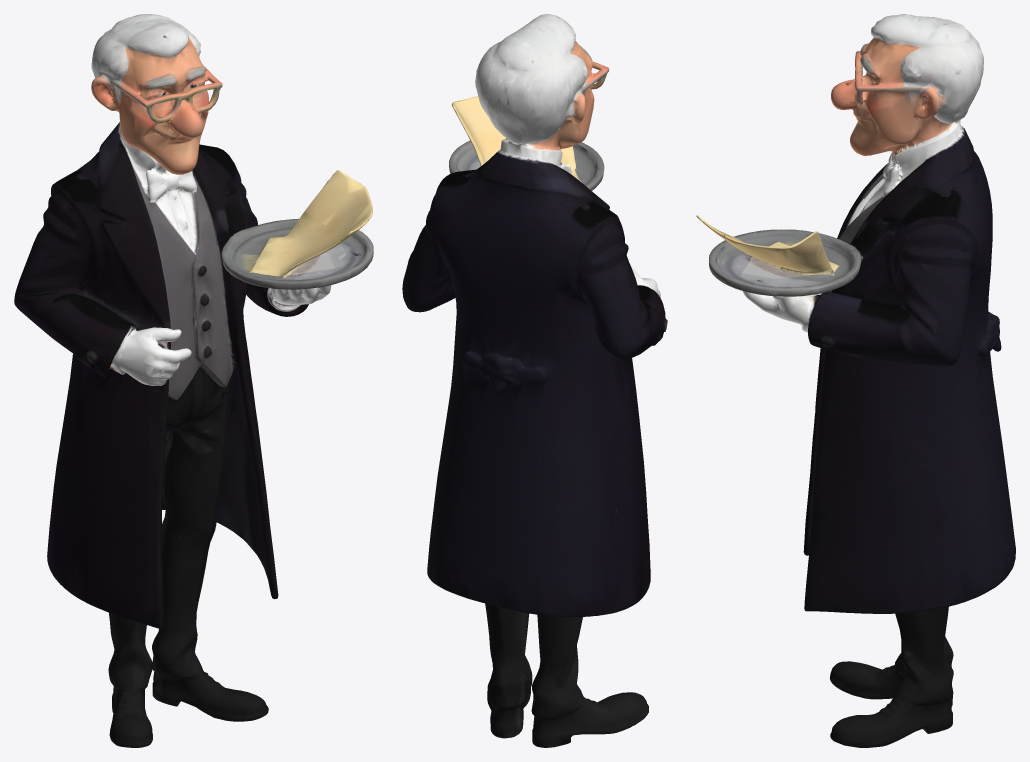
File: executor_butler.glb
3 renders of one model, left to right at view 1: azimuth 30°, elevation 25°; view 2: azimuth 150°, elevation 25°; view 3: azimuth 270°, elevation 25°, orthographic. The views are drawn at different scales.
Size of the model in its own units: 0.7791 by 1.91 by 0.794.
1 material, 1 textured.
